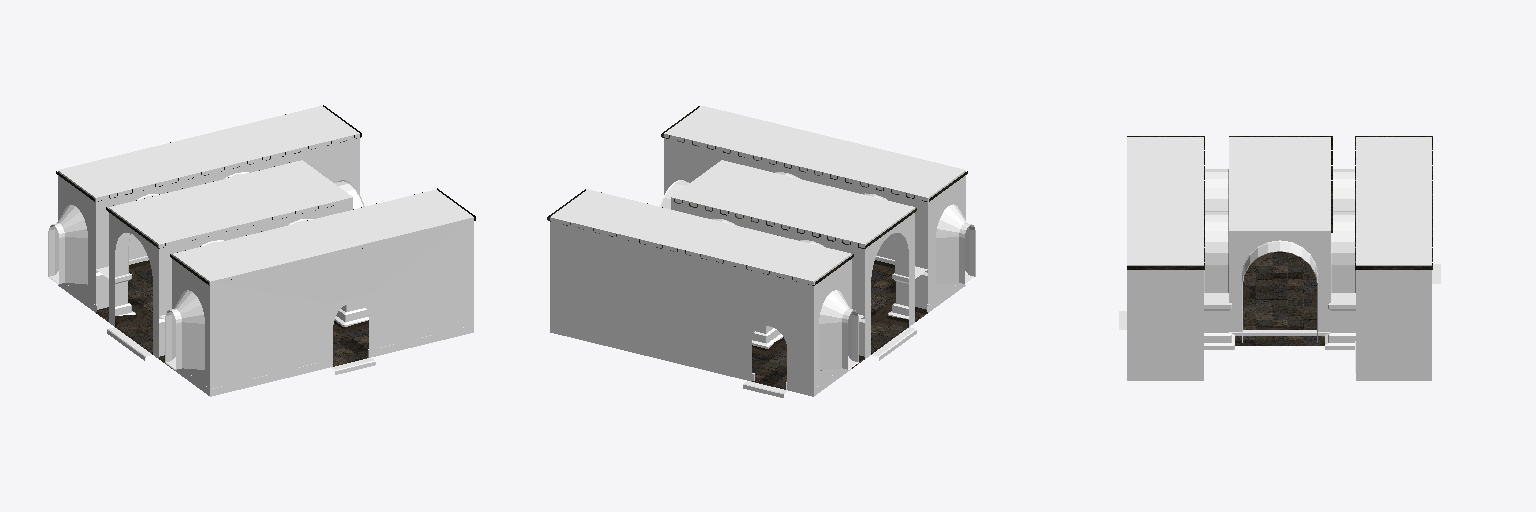
3 renders of one model, left to right at view 1: azimuth 30°, elevation 25°; view 2: azimuth 150°, elevation 25°; view 3: azimuth 270°, elevation 25°, orthographic.
Visible parts, largest first — view 1: mesh8, mesh6, mesh4, mesh7, mesh2, mesh0, mesh5, mesh1; view 2: mesh8, mesh6, mesh4, mesh7, mesh2, mesh1, mesh5, mesh0; view 3: mesh6, mesh8, mesh4, mesh7, mesh2, mesh1, mesh0.
Part boxes in pixels (left/top/right/bottom): mesh8: left=48, top=171, right=473, bottom=396; mesh6: left=58, top=106, right=473, bottom=281; mesh4: left=96, top=134, right=359, bottom=315; mesh7: left=96, top=269, right=368, bottom=368; mesh2: left=96, top=266, right=368, bottom=356; mesh0: left=107, top=327, right=375, bottom=374; mesh5: left=115, top=260, right=368, bottom=353; mesh1: left=56, top=105, right=475, bottom=285; mesh8: left=550, top=171, right=975, bottom=396; mesh6: left=551, top=106, right=965, bottom=281; mesh4: left=664, top=134, right=927, bottom=315; mesh7: left=752, top=270, right=927, bottom=389; mesh2: left=752, top=266, right=927, bottom=356; mesh1: left=547, top=106, right=967, bottom=285; mesh5: left=752, top=260, right=908, bottom=388; mesh0: left=743, top=327, right=916, bottom=397; mesh6: left=1127, top=137, right=1431, bottom=342; mesh8: left=1127, top=265, right=1431, bottom=380; mesh4: left=1204, top=169, right=1355, bottom=292; mesh7: left=1235, top=252, right=1324, bottom=345; mesh2: left=1204, top=293, right=1355, bottom=349; mesh1: left=1127, top=136, right=1432, bottom=269; mesh0: left=1119, top=264, right=1440, bottom=335.
Bounding box in the file's own units: 13.09 × 5.2 × 12.69.
9 materials, 3 textured.